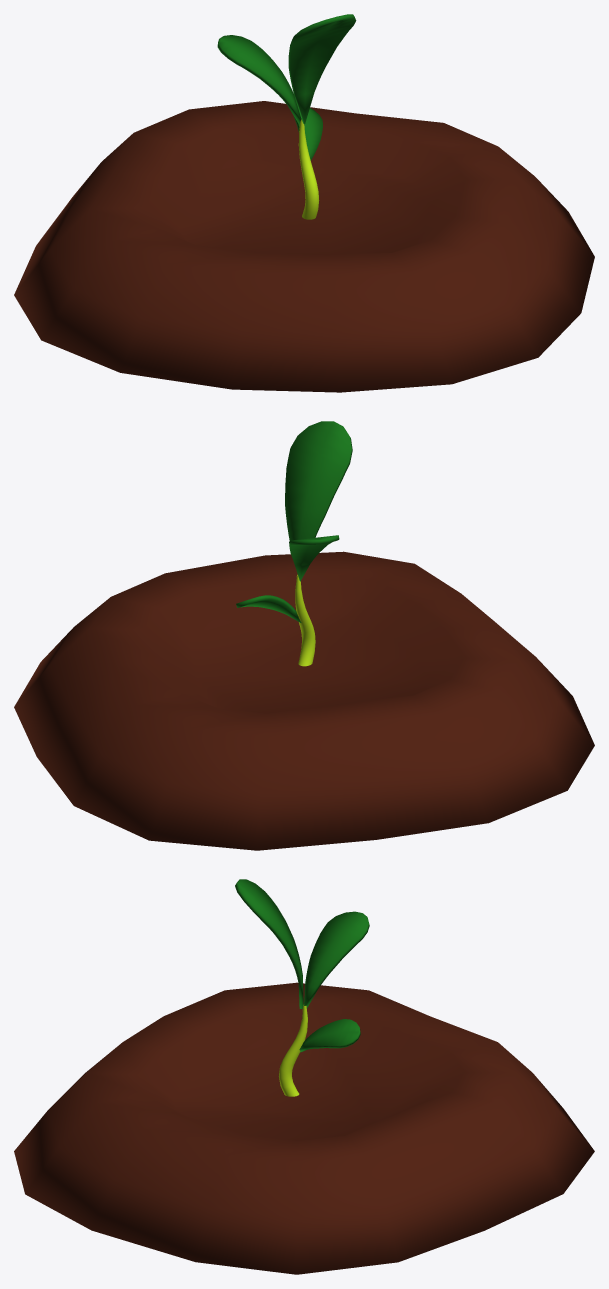
File: Brote.fbx
3 views of the same model, one above another, from view 1: azimuth 30°, elevation 25°; view 2: azimuth 150°, elevation 25°; view 3: azimuth 270°, elevation 25° (orthographic). The views are drawn at different scales.
Visible parts, largest first — view 1: Brote; view 2: Brote; view 3: Brote.
Part boxes in pixels (x1,y1,x2,y2): Brote: [14, 14, 594, 392]; Brote: [14, 421, 594, 850]; Brote: [14, 879, 594, 1274].
Size of the model in its own units: 414 by 212 by 413.
